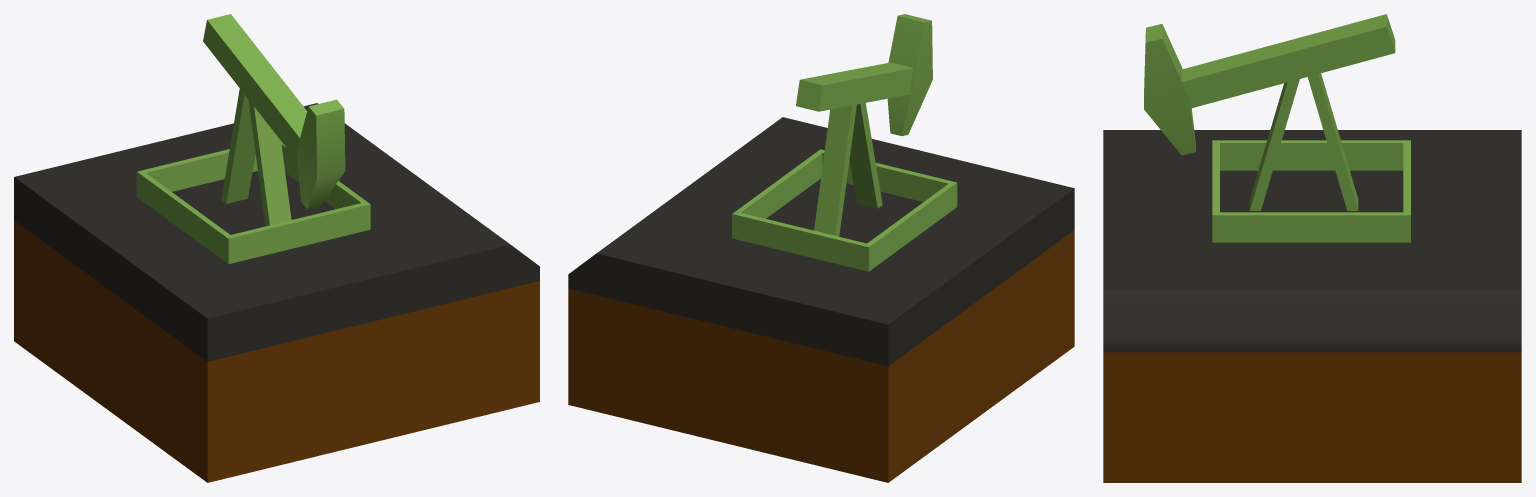
The model's file is OilStation01.fbx.
3 renders of one model, left to right at view 1: azimuth 30°, elevation 25°; view 2: azimuth 150°, elevation 25°; view 3: azimuth 270°, elevation 25°, orthographic. The views are drawn at different scales.
Parts seen in each view (by area): view 1: OilStation01; view 2: OilStation01; view 3: OilStation01.
Part boxes in pixels (left/top/right/bottom): OilStation01: left=14, top=14, right=539, bottom=482; OilStation01: left=568, top=14, right=1074, bottom=482; OilStation01: left=1103, top=14, right=1521, bottom=482.
Bounding box in the file's own units: 96.18 × 92.75 × 97.03.
Materials: 1 (1 with a texture image).
